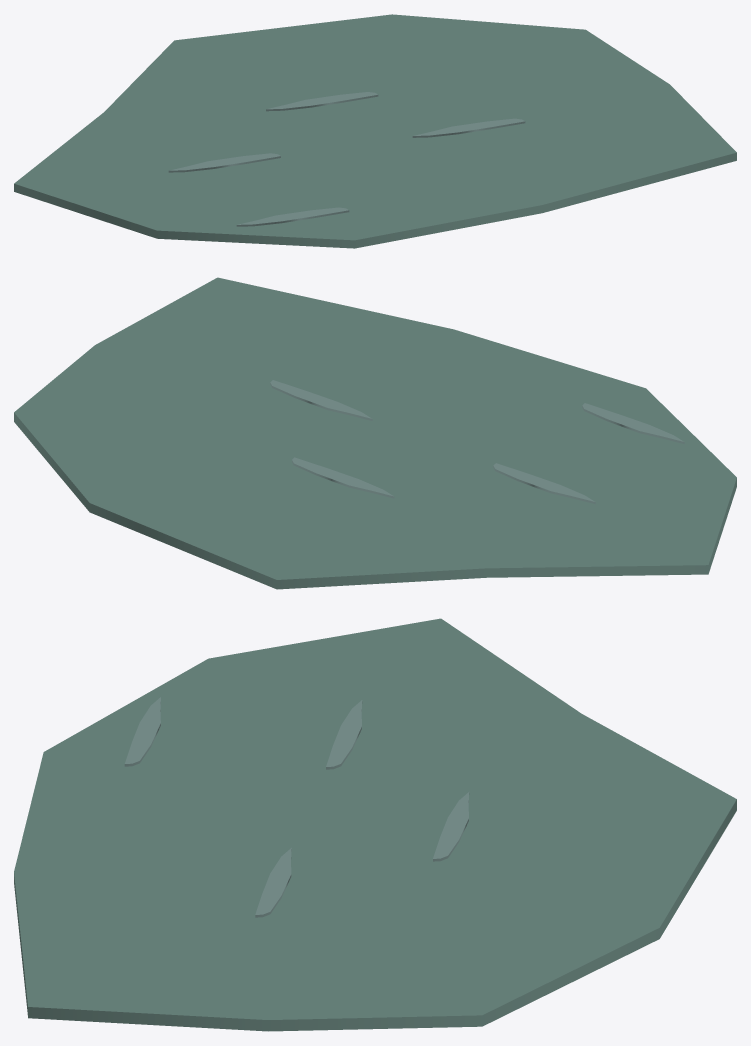
Rendered from patch-puddle-mossy.glb.
3 views of the same model, one above another, from view 1: azimuth 30°, elevation 25°; view 2: azimuth 150°, elevation 25°; view 3: azimuth 270°, elevation 25° (orthographic). The views are drawn at different scales.
Parts seen in each view (by area): view 1: patch-puddle-kit-mossy-shade, patch-puddle-kit-mossy-metal; view 2: patch-puddle-kit-mossy-shade, patch-puddle-kit-mossy-metal; view 3: patch-puddle-kit-mossy-shade, patch-puddle-kit-mossy-metal.
Boxes of the visible parts, x1,y1,x2,y2 form: patch-puddle-kit-mossy-shade: (14,14,736,248); patch-puddle-kit-mossy-metal: (168,92,525,226); patch-puddle-kit-mossy-shade: (14,277,736,589); patch-puddle-kit-mossy-metal: (270,380,684,504); patch-puddle-kit-mossy-shade: (14,618,736,1031); patch-puddle-kit-mossy-metal: (124,697,469,917).
Size of the model in its own units: 2.66 by 0.0475 by 2.02.
